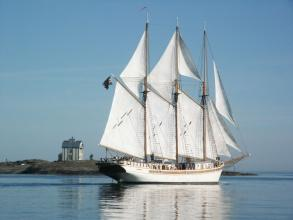fanchuan: (95, 10, 245, 189)
